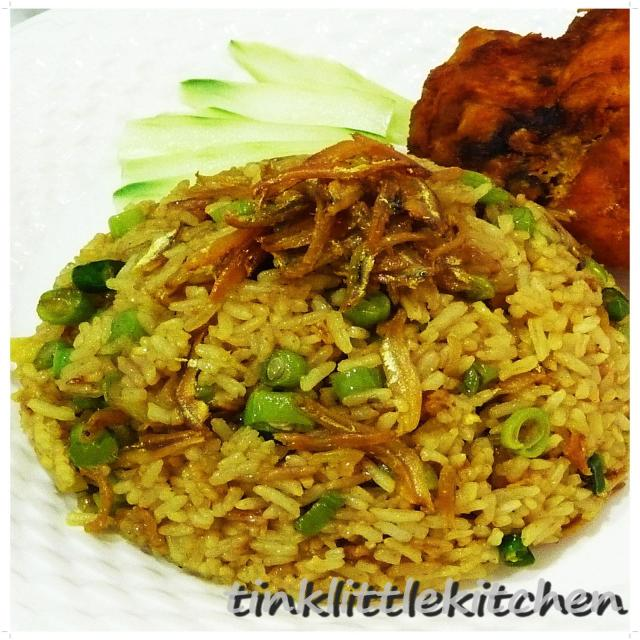Nasi Goreng: (14, 136, 629, 599)
